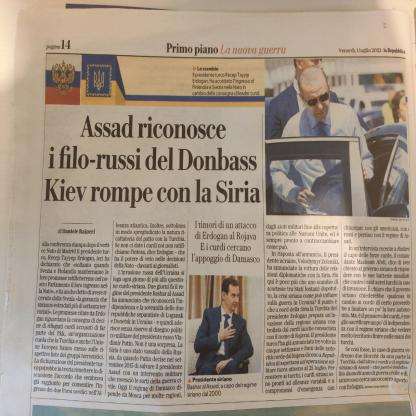immagine: (263, 58, 411, 222), (187, 273, 262, 377)
testo_col: (105, 218, 187, 401), (263, 222, 340, 399), (338, 222, 412, 394), (31, 237, 110, 398)
titolo: (44, 107, 260, 216)
